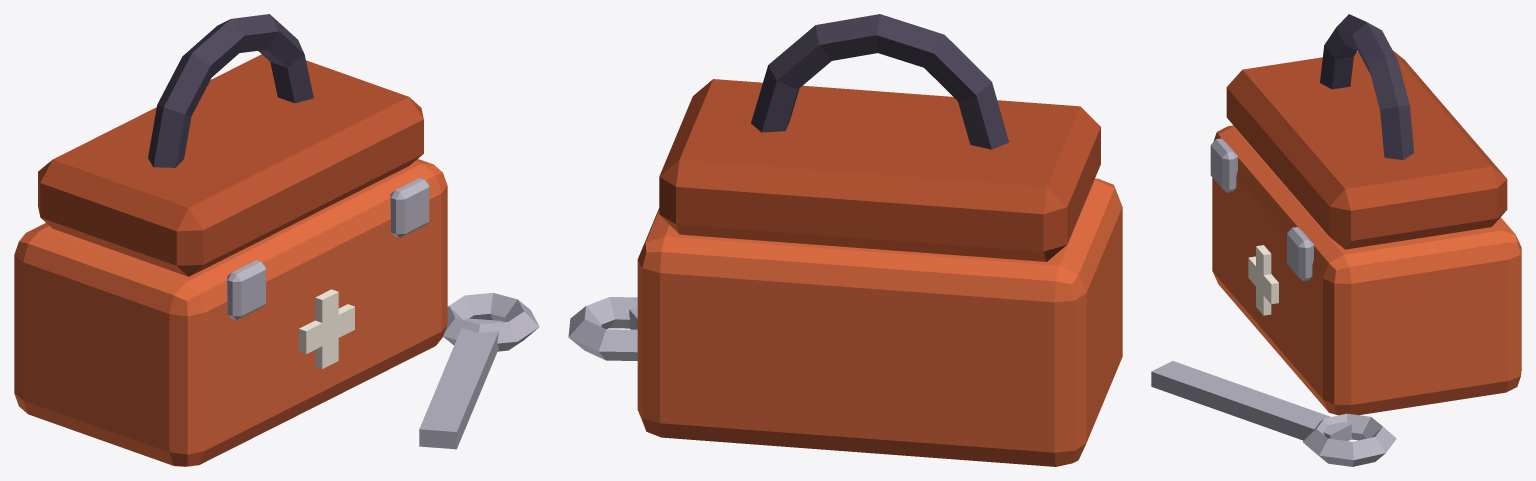
File: MOONSHIFT_ITM_Maintenance_Kit.glb
The picture shows the model from 3 angles, left to right: view 1: azimuth 30°, elevation 25°; view 2: azimuth 150°, elevation 25°; view 3: azimuth 270°, elevation 25°; orthographic projection. The views are drawn at different scales.
Visible parts, largest first — view 1: MKit_Body, MKit_Tray, MKit_Handle, MKit_WrenchShaft, MKit_WrenchHead, MKit_Latch1, MKit_Latch0, MKit_Cross1, MKit_Cross2; view 2: MKit_Body, MKit_Tray, MKit_Handle, MKit_WrenchHead; view 3: MKit_Body, MKit_Tray, MKit_Handle, MKit_WrenchShaft, MKit_WrenchHead, MKit_Latch0, MKit_Latch1, MKit_Cross2, MKit_Cross1.
Boxes of the visible parts, x1,y1,x2,y2 form: MKit_Body: (14,159,447,466); MKit_Tray: (38,54,423,276); MKit_Handle: (148,14,313,167); MKit_WrenchShaft: (419,318,502,449); MKit_WrenchHead: (443,293,539,351); MKit_Latch1: (390,178,429,237); MKit_Latch0: (227,260,265,319); MKit_Cross1: (299,304,354,354); MKit_Cross2: (315,289,338,368); MKit_Body: (637,178,1122,466); MKit_Tray: (659,79,1100,261); MKit_Handle: (751,14,1009,149); MKit_WrenchHead: (568,297,637,360); MKit_Body: (1212,125,1521,415); MKit_Tray: (1226,50,1507,249); MKit_Handle: (1320,14,1414,159); MKit_WrenchShaft: (1151,361,1351,440); MKit_WrenchHead: (1303,413,1396,466); MKit_Latch0: (1210,138,1237,192); MKit_Latch1: (1287,227,1313,281); MKit_Cross2: (1256,245,1271,315); MKit_Cross1: (1248,256,1278,304).
Size of the model in its own units: 0.8929 by 0.645 by 0.6653.
